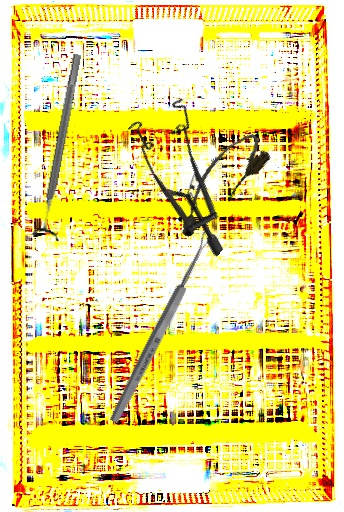Cannula: (162, 125, 276, 245)
Fixation Ring: (30, 51, 93, 242)
Speculum: (98, 82, 282, 259)
Surgical Spoon: (107, 229, 217, 425)
